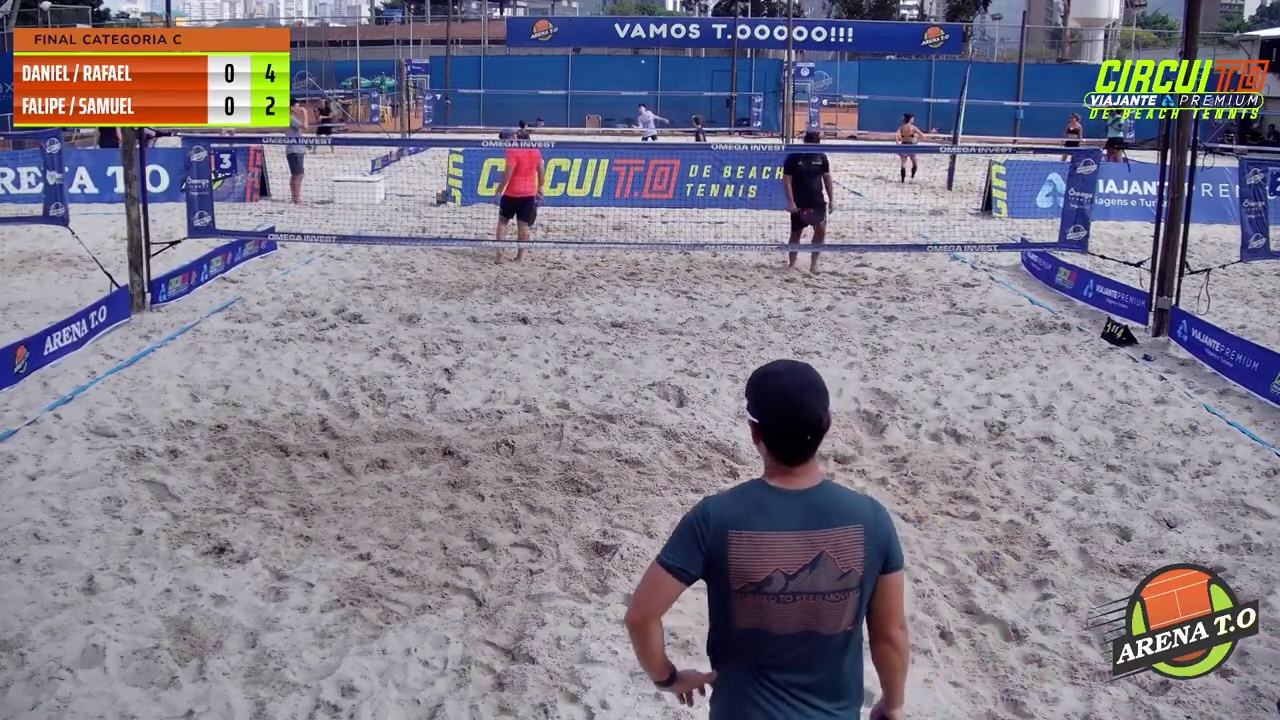court_line: (638, 0, 798, 384)
